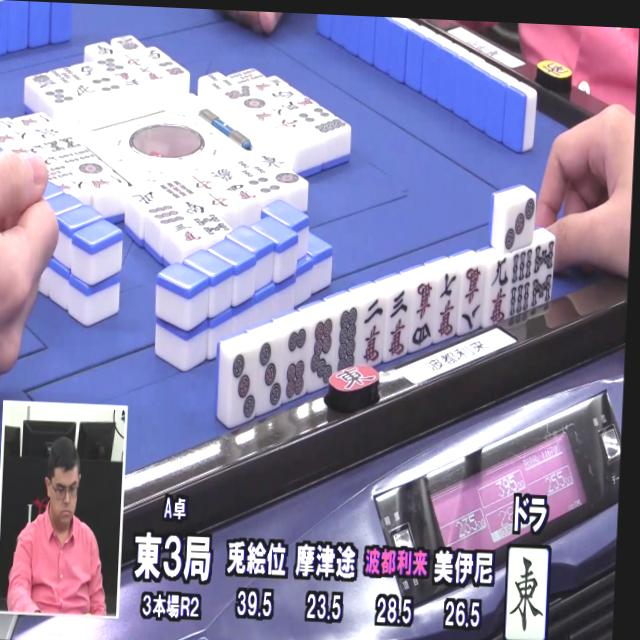east: (508, 549, 550, 638)
m2: (358, 296, 389, 368)
m3: (384, 287, 413, 360)
m4: (409, 278, 439, 350)
m7: (432, 270, 463, 342)
m8: (459, 264, 490, 336)
m9: (485, 255, 513, 329)
s6: (509, 248, 534, 322)
s8: (532, 233, 556, 310)
s9: (159, 178, 201, 206)
t3: (225, 349, 260, 424), (254, 336, 286, 412), (501, 193, 539, 257)
t6: (281, 326, 312, 403)
t7: (306, 316, 338, 389)
t8: (334, 305, 362, 373)
t9: (148, 203, 196, 232)
